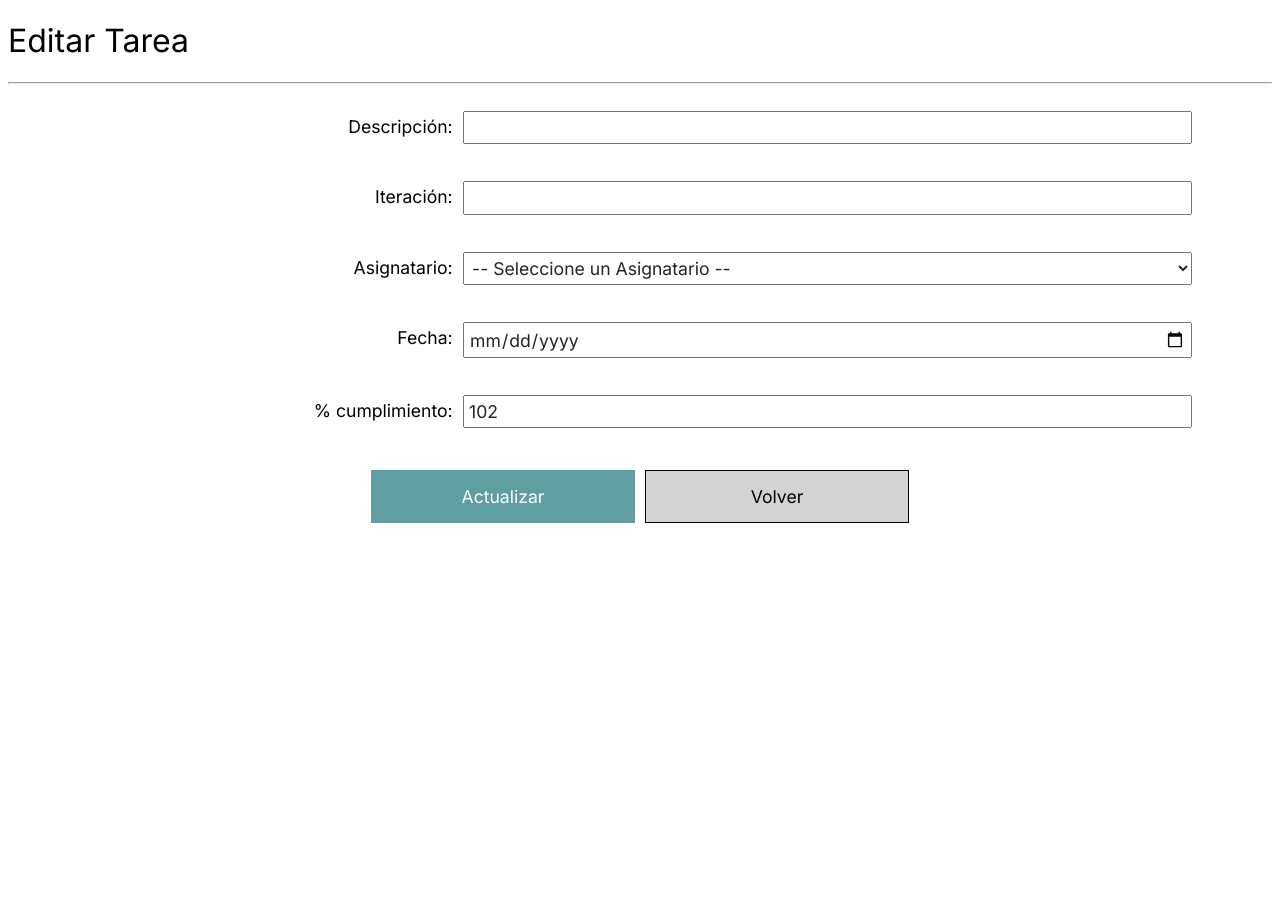
Test case: Actualizar una nueva tarea › si la tarea tiene errores de validación al hacer click en el botón "Guardar" debe mostrarlos
The width and height of the screenshot is (1280, 900).
Click the button with test id "guardar".
click(503, 497)  # box [371,470,635,523]
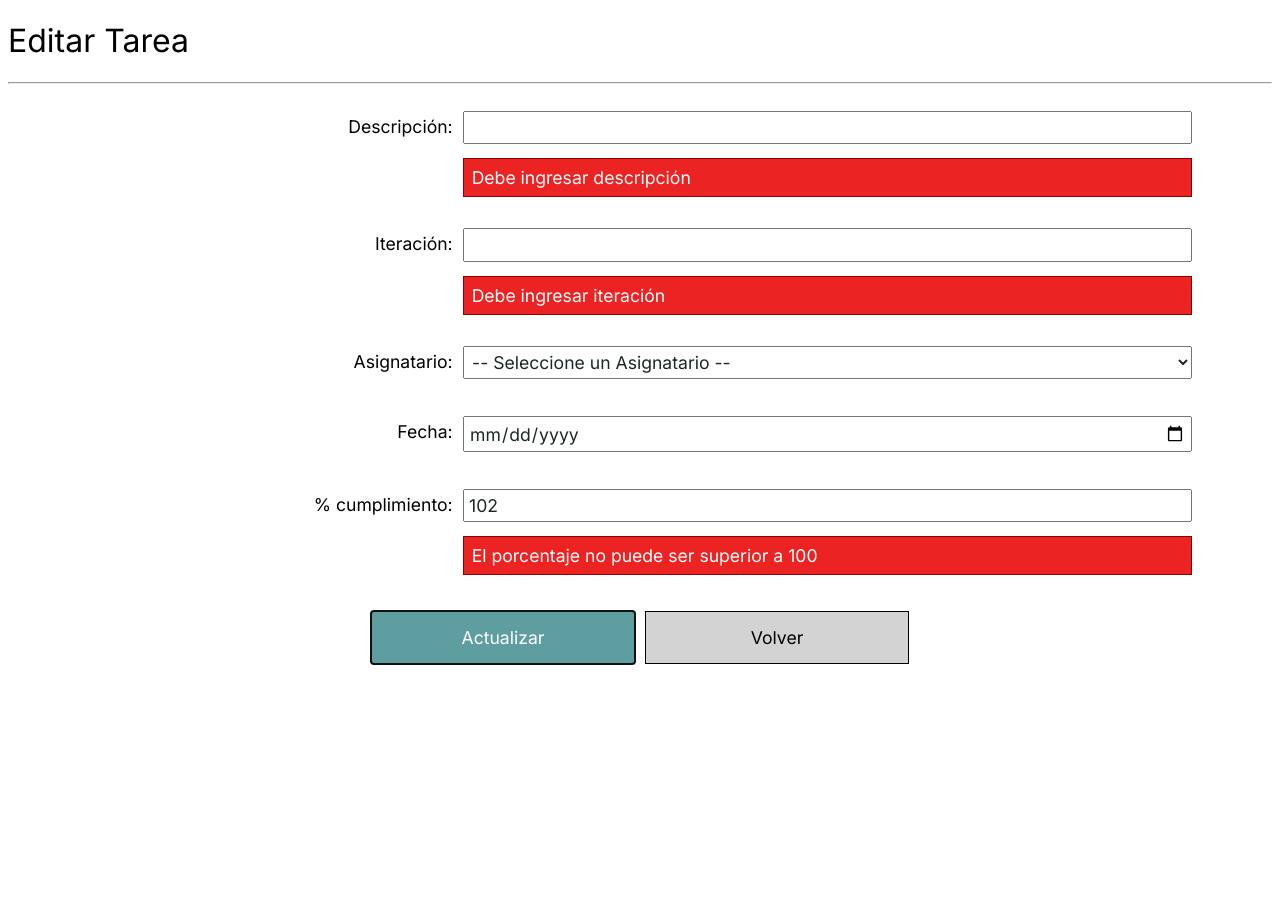
Result: the text with test id "error-field-descripcion" reads "Debe ingresar descripción" at [472,167,691,188]
Result: the text with test id "error-field-iteracion" reads "Debe ingresar iteración" at [472,285,665,306]
Result: the text with test id "error-field-porcentajeCumplimiento" reads "El porcentaje no puede ser superior a 100" at [472,546,818,566]
